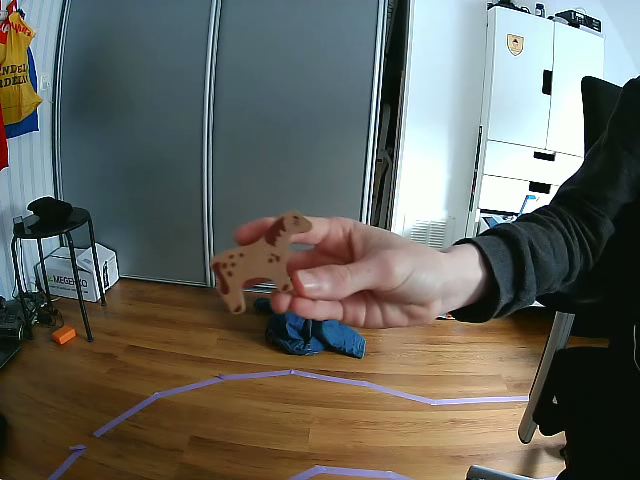paard: (212, 208, 311, 316)
